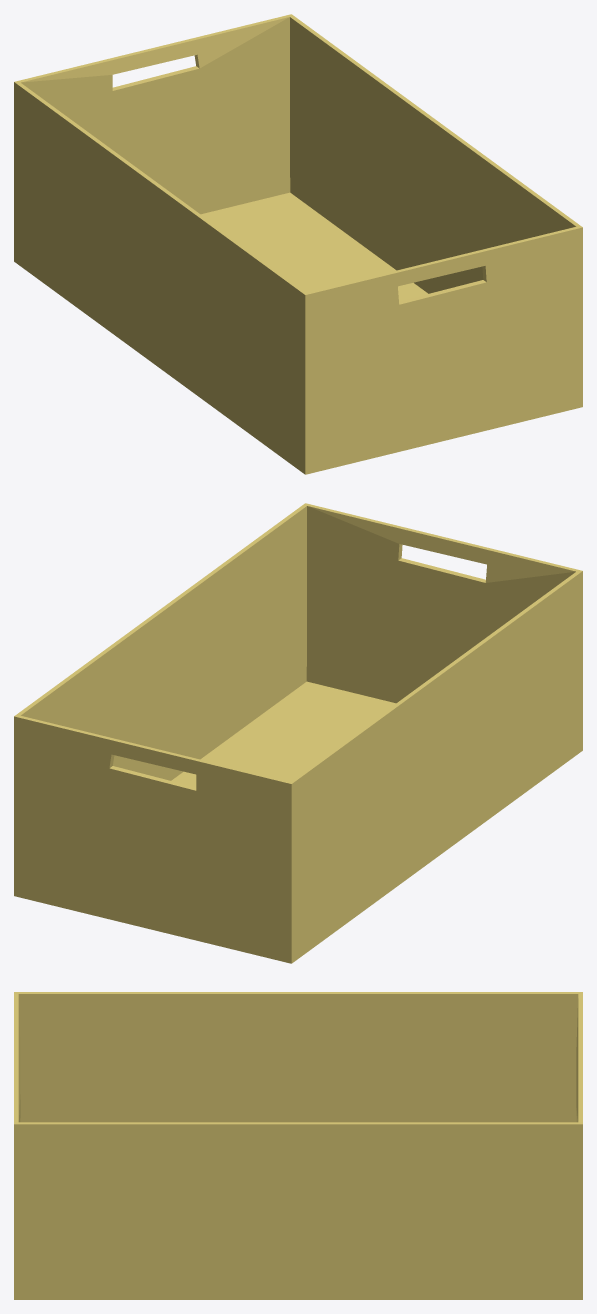
The model's file is caja.glb.
3 views of the same model, one above another, from view 1: azimuth 30°, elevation 25°; view 2: azimuth 150°, elevation 25°; view 3: azimuth 270°, elevation 25° (orthographic). The views are drawn at different scales.
Parts seen in each view (by area): view 1: Caja; view 2: Caja; view 3: Caja.
Boxes of the visible parts, <box> form: Caja: <box>14,14,582,474</box>; Caja: <box>14,503,582,963</box>; Caja: <box>14,992,582,1299</box>.
Size of the model in its own units: 0.6604 by 0.4084 by 1.2.
